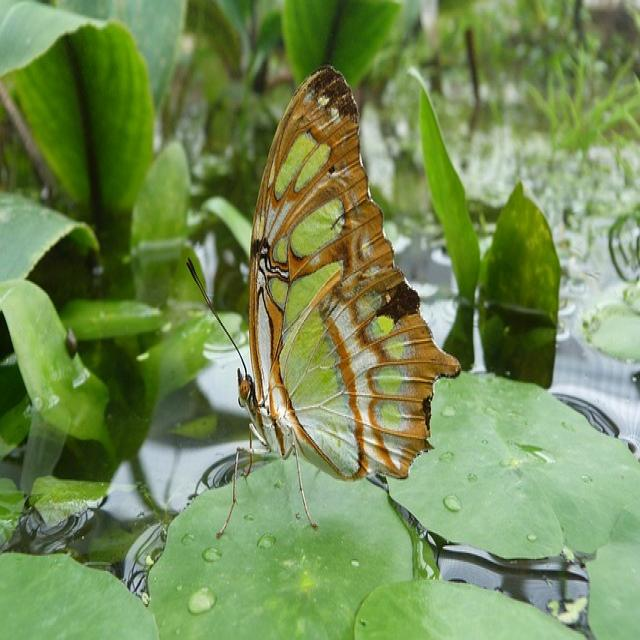butterfly: (238, 66, 460, 529), (216, 449, 241, 538)
